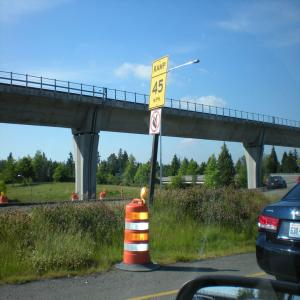Vehicle-registration-plate: (290, 224, 300, 239)
